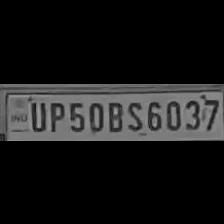0: (162, 96, 182, 130), (86, 98, 104, 132)
3: (183, 96, 200, 130)
5: (66, 98, 86, 132)
6: (144, 97, 162, 130)
7: (202, 96, 220, 130)
B: (104, 98, 124, 132)
P: (46, 98, 64, 132)
S: (124, 97, 144, 130)
U: (27, 99, 45, 131)
